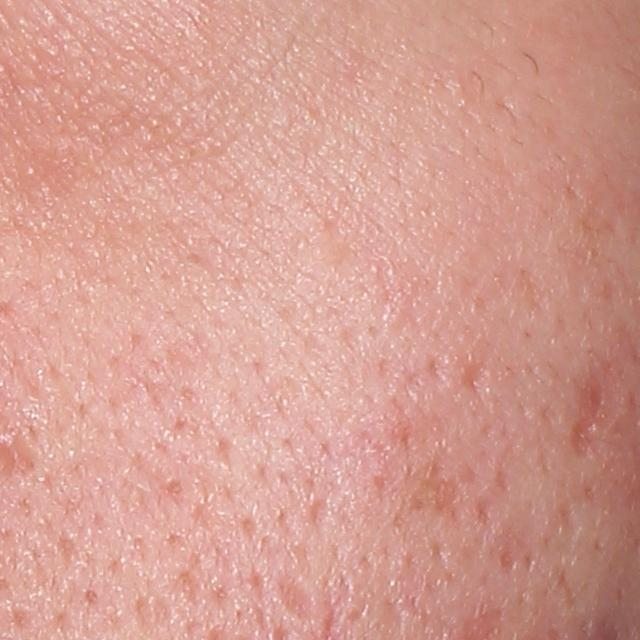atrophic_scar: (275, 566, 318, 631), (463, 357, 488, 393), (497, 539, 518, 572)
